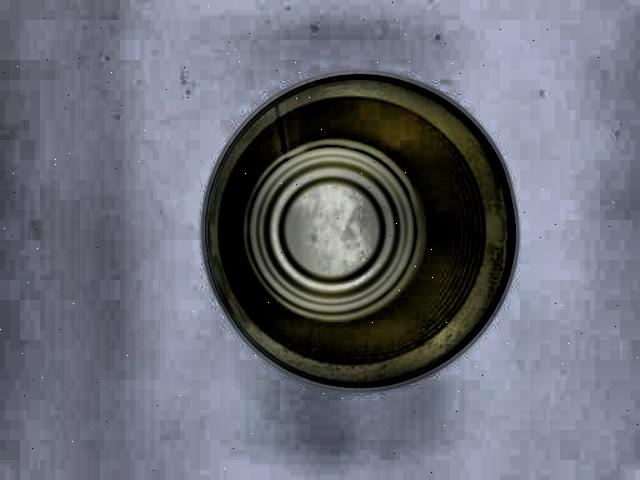Almennt: (180, 60, 536, 396)
